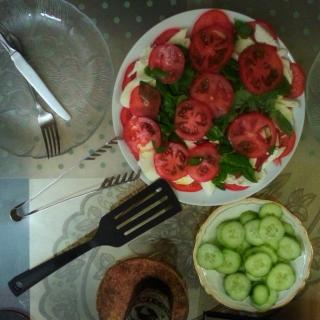tomato: (230, 110, 280, 162), (240, 44, 284, 94), (188, 26, 232, 74), (189, 71, 237, 114), (122, 115, 162, 166), (152, 141, 190, 181), (173, 101, 213, 138), (149, 42, 184, 82), (130, 79, 160, 124), (185, 143, 221, 180), (282, 65, 306, 98), (280, 127, 298, 158)
